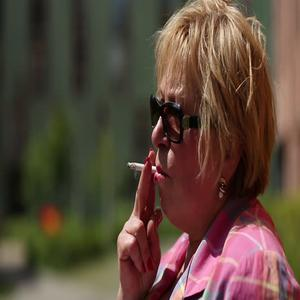cigarette: (127, 163, 160, 174)
